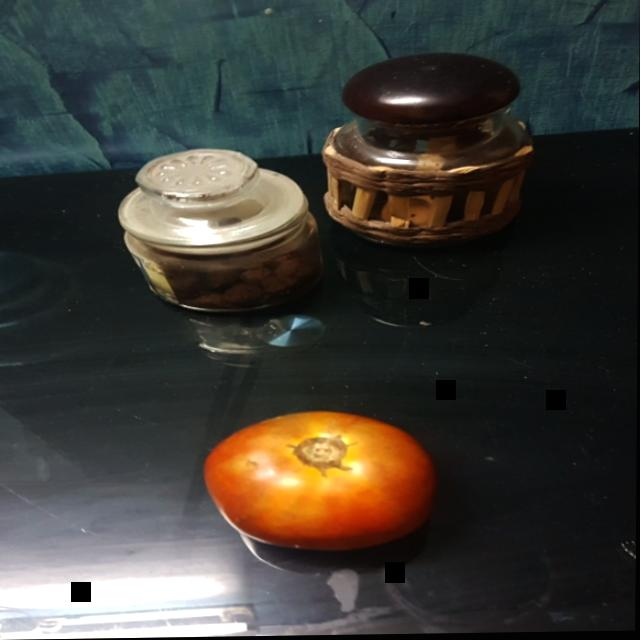tomato: (199, 404, 450, 563)
